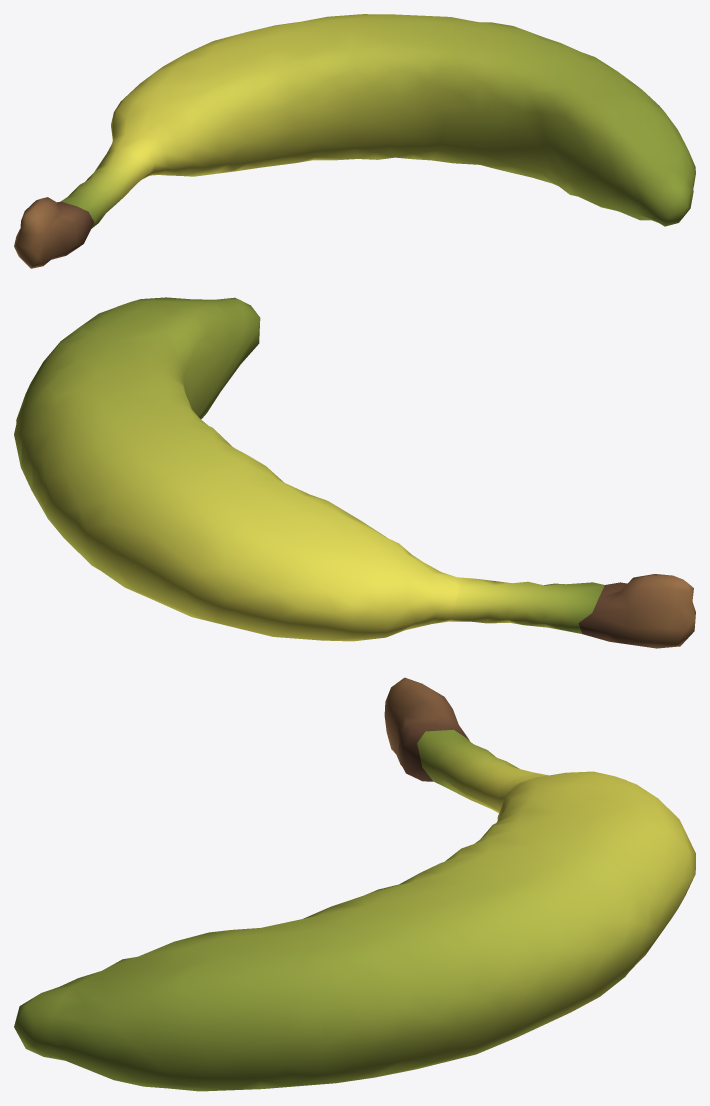
File: banana.fbx
The picture shows the model from 3 angles, top to bottom: view 1: azimuth 30°, elevation 25°; view 2: azimuth 150°, elevation 25°; view 3: azimuth 270°, elevation 25°; orthographic projection. The views are drawn at different scales.
Parts seen in each view (by area): view 1: banana09_lr; view 2: banana09_lr; view 3: banana09_lr.
Boxes of the visible parts, <box> form: banana09_lr: <box>14,14,695,268</box>; banana09_lr: <box>14,297,695,648</box>; banana09_lr: <box>14,677,695,1091</box>.
Bounding box in the file's own units: 1.07 × 0.2072 × 0.8174.
